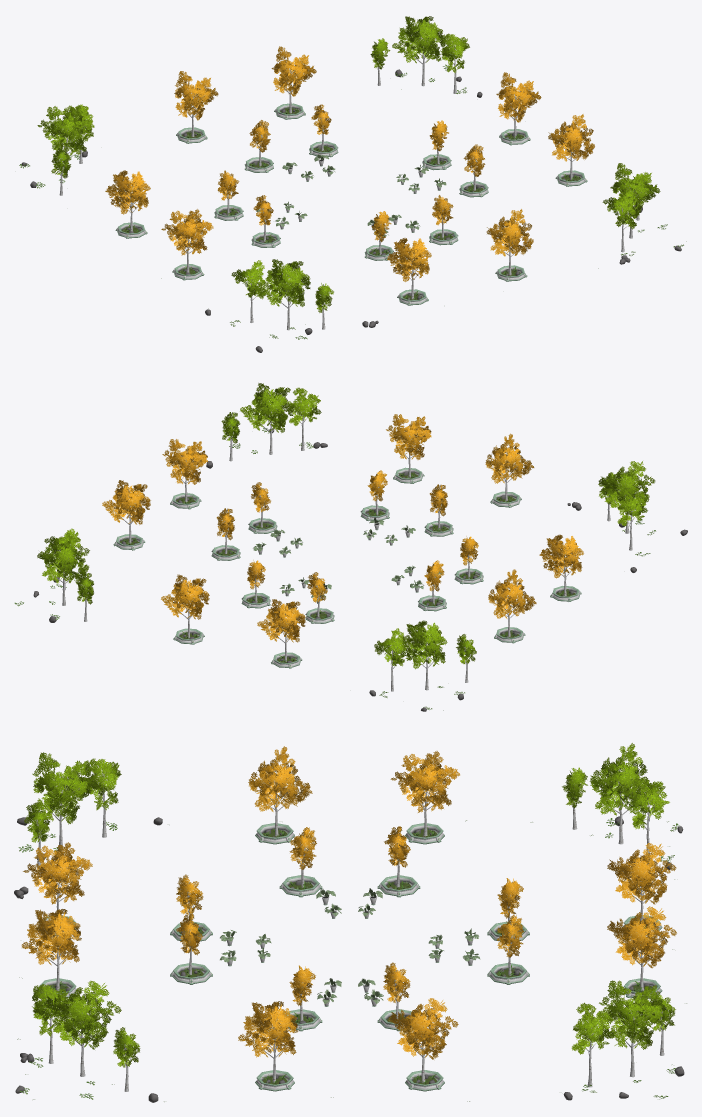
The model's file is vegetation.glb.
The picture shows the model from 3 angles, top to bottom: view 1: azimuth 30°, elevation 25°; view 2: azimuth 150°, elevation 25°; view 3: azimuth 270°, elevation 25°; orthographic projection. The views are drawn at different scales.
Parts seen in each view (by area): view 1: stylizedTree03.001 (×8), stylizedTree03 (×4), stylizedTree02 (×3), stylizedTree01, stylizedTree01.001; view 2: stylizedTree03.001 (×8), stylizedTree03 (×4), stylizedTree02 (×3), stylizedTree01; view 3: stylizedTree03.001 (×8), stylizedTree03 (×4), stylizedTree01.001 (×8), stylizedTree02 (×4), stylizedTree01 (×4).
Part boxes in pixels (x1,y1,x2,y2): stylizedTree03.001 (×8): (105,46,594,299); stylizedTree03 (×4): (37,16,660,330); stylizedTree02 (×3): (231,33,636,322); stylizedTree01: (51,146,71,195); stylizedTree01.001: (463,144,485,190); stylizedTree03.001 (×8): (102,414,583,661); stylizedTree03 (×4): (37,383,655,690); stylizedTree02 (×3): (289,387,647,691); stylizedTree01: (221,412,240,461); stylizedTree03.001 (×8): (21,746,676,1082); stylizedTree03 (×4): (32,743,666,1077); stylizedTree01.001 (×8): (176,826,524,1021); stylizedTree02 (×4): (32,758,669,1087); stylizedTree01 (×4): (24,767,675,1091).
Size of what is drawn, in the model's own units: 125 by 20.52 by 126.
Materials: 13 (11 with a texture image).
